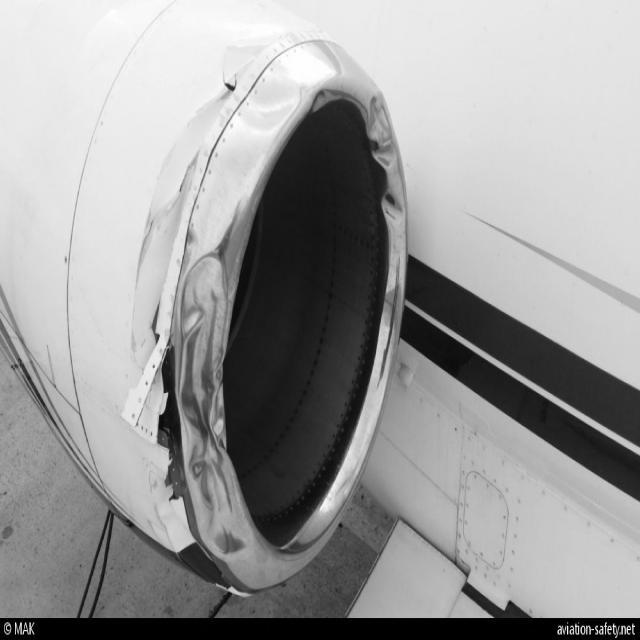dent: (181, 260, 231, 552), (369, 93, 408, 228), (239, 82, 303, 133)
